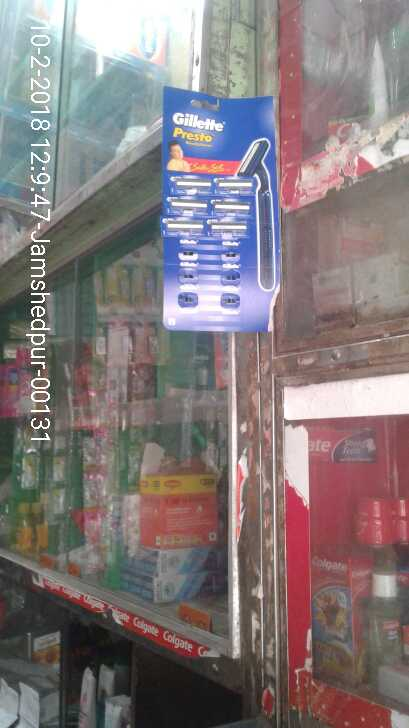gillette: (155, 86, 285, 334)
